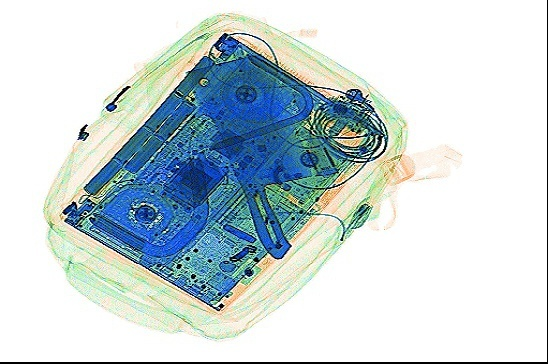knife: (184, 51, 312, 259)
